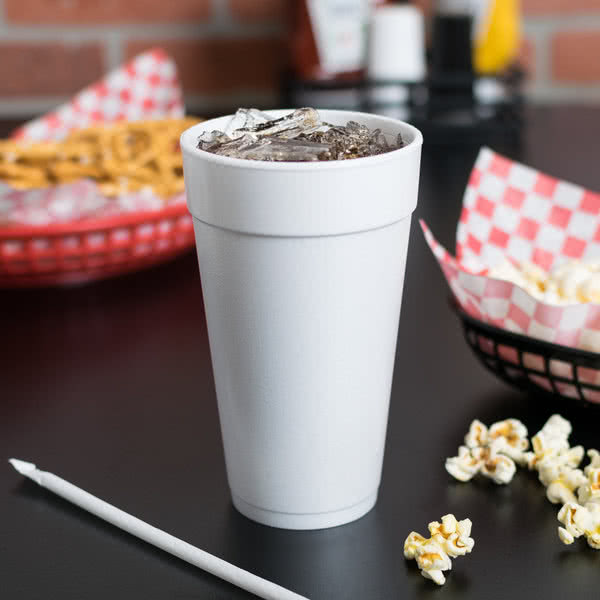Nonrec_Plastic: (161, 70, 450, 533)
